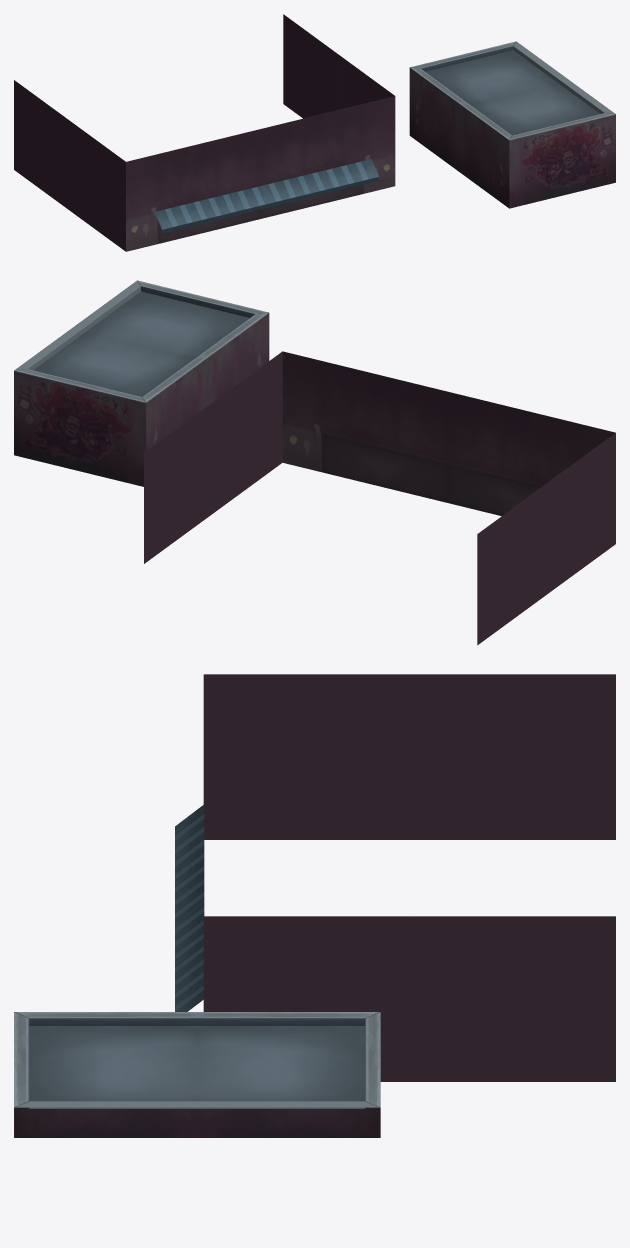
3 renders of one model, top to bottom at view 1: azimuth 30°, elevation 25°; view 2: azimuth 150°, elevation 25°; view 3: azimuth 270°, elevation 25°, orthographic. The views are drawn at different scales.
Parts seen in each view (by area): view 1: wj_fz03; view 2: wj_fz03; view 3: wj_fz03.
Part boxes in pixels (<box>): wj_fz03: <box>14,14,615,251</box>; wj_fz03: <box>14,280,615,645</box>; wj_fz03: <box>14,674,615,1137</box>.
Size of the model in its own units: 5095 by 3294 by 1000.
